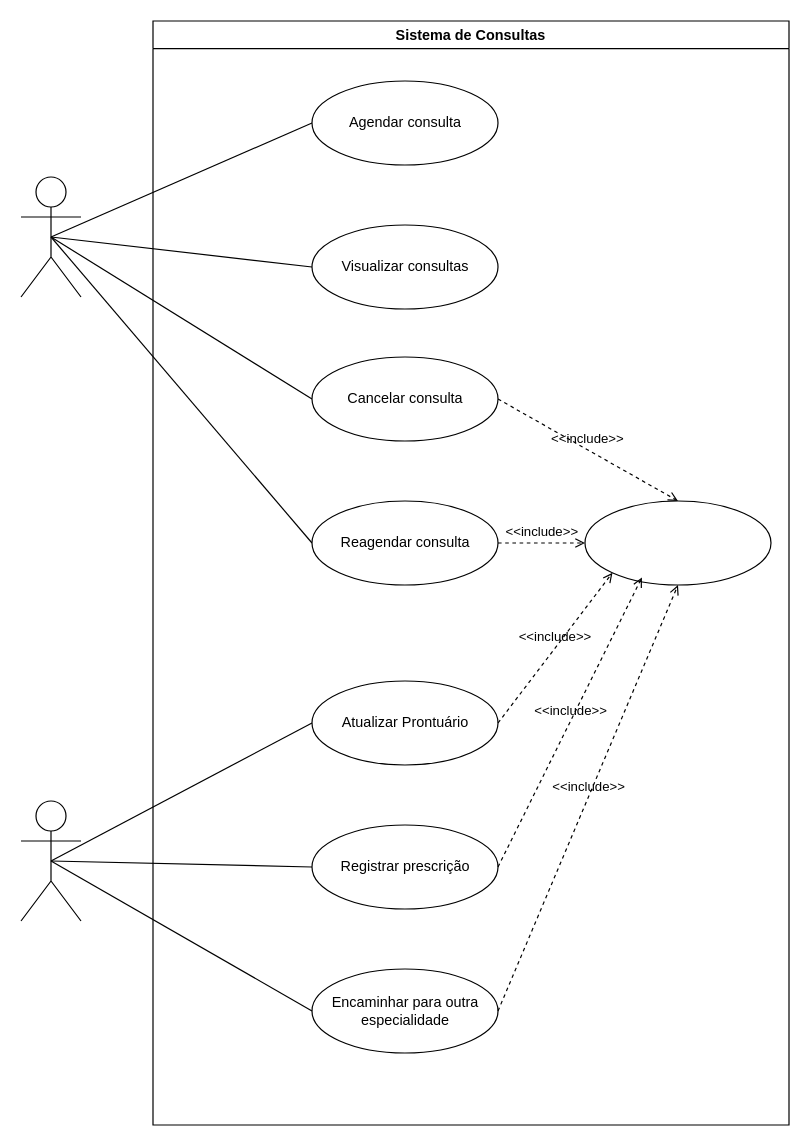
Some shapes in this 810 by 1146 pixel diagram are drawn without their labels. Each missing label, with the box of its shape:
Autenticar: (584, 500, 771, 585)
Médico: (20, 800, 81, 921)
Paciente: (20, 176, 81, 297)
